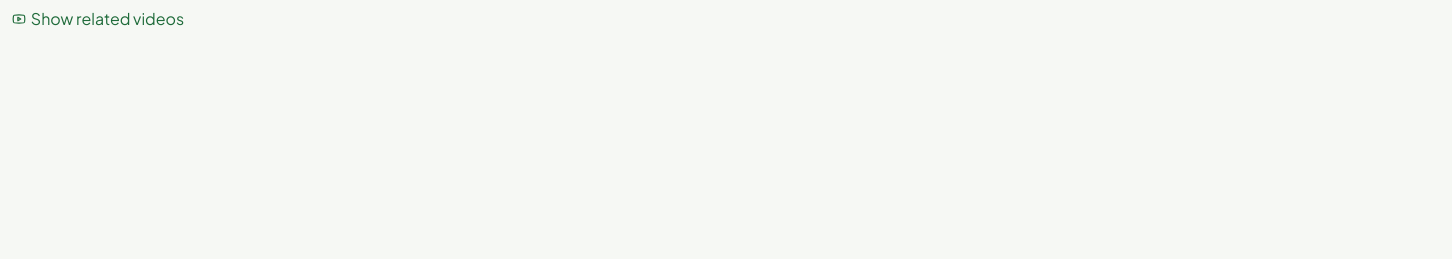
RelatedVideos › waits for a click on older answers
What coordinates should you click on to do the following:
click the button "Show related videos"
I would click on:
 (98, 19)
Its box is [12, 7, 184, 31].
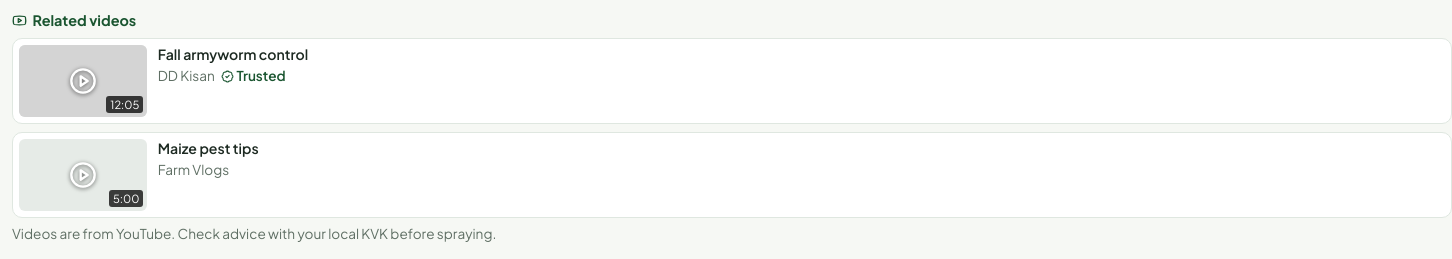
Expected: the text "Maize pest tips" is shown, [158, 139, 259, 157]
